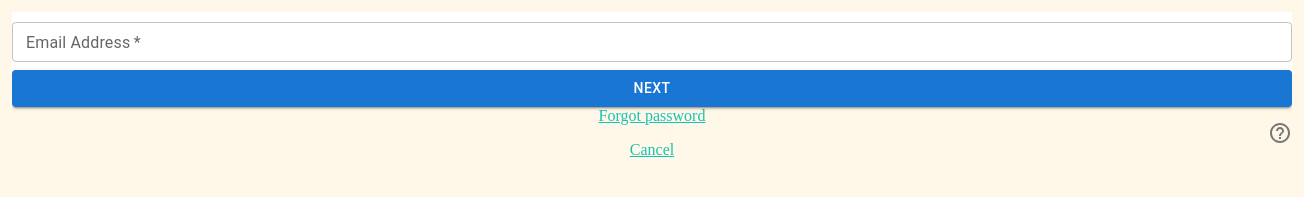
Test: UserLookup › shows email not found
Type "new@email.com" into the field labelled "Email Address *" at (652, 42), box left=12, top=22, right=1292, bottom=62
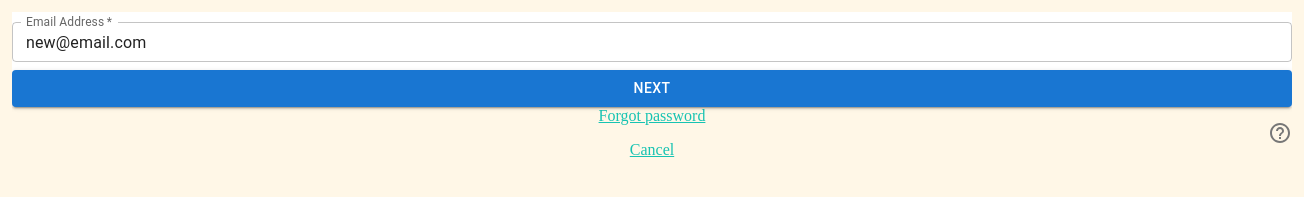
Click the button "Next" at (652, 88), box left=12, top=70, right=1292, bottom=106
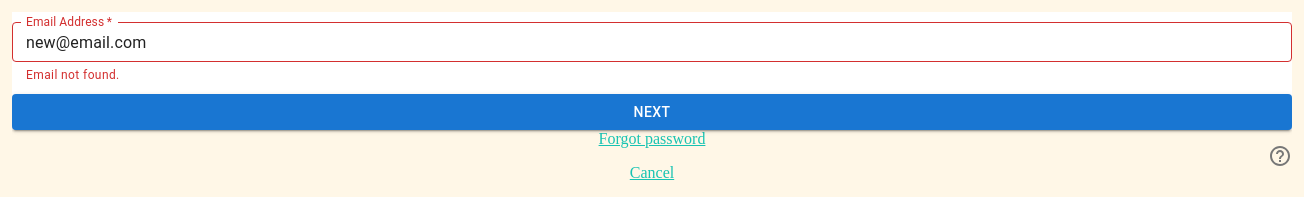
Expected: the text "Email not found." is shown, left=26, top=68, right=120, bottom=82
